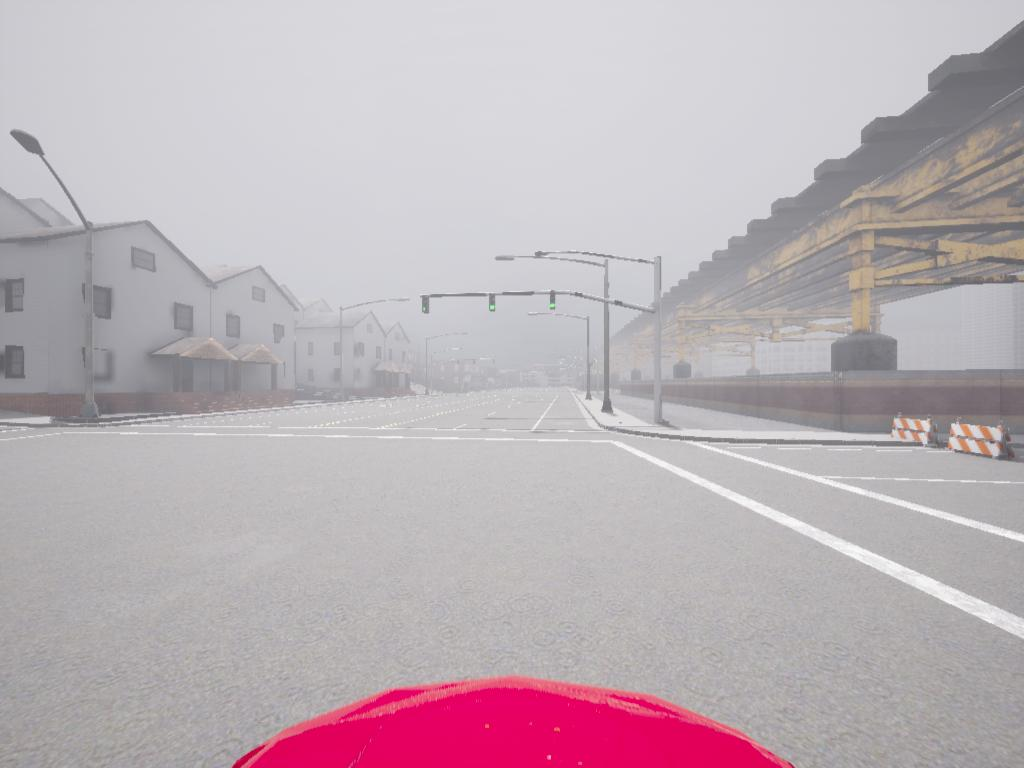traffic_light: (422, 296, 430, 315), (489, 297, 499, 312), (549, 292, 557, 310), (457, 360, 461, 366), (473, 360, 476, 366), (493, 360, 495, 366)
